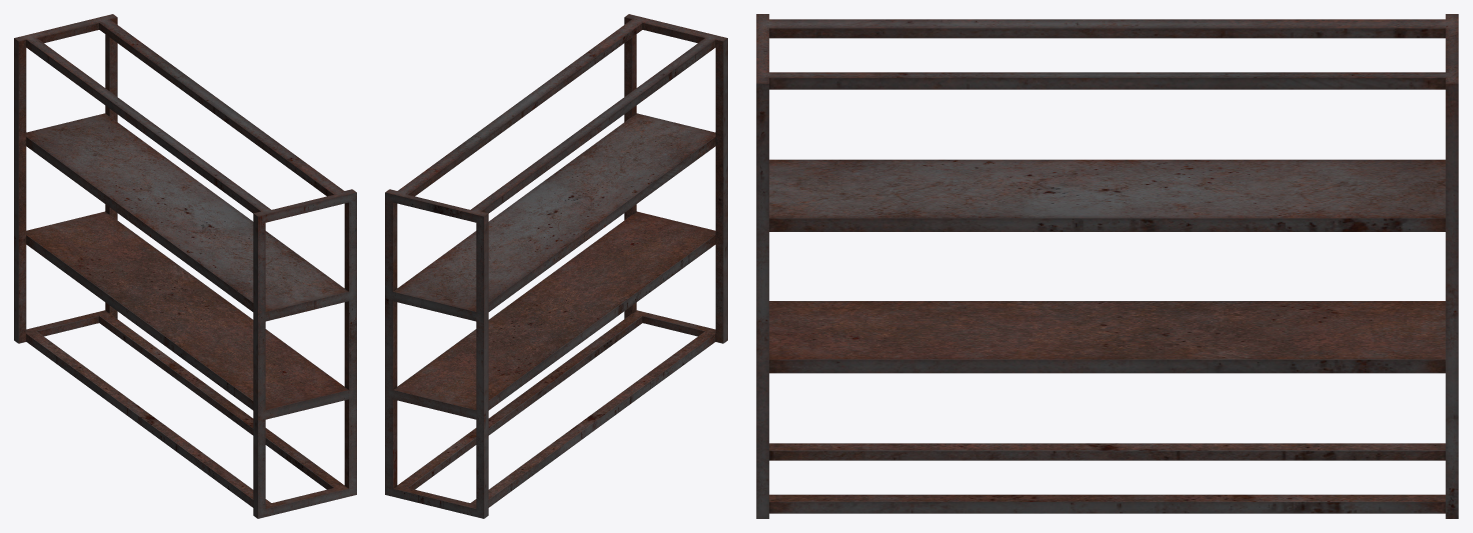
File: shelf.fbx
3 views of the same model, side by side, from view 1: azimuth 30°, elevation 25°; view 2: azimuth 150°, elevation 25°; view 3: azimuth 270°, elevation 25° (orthographic). The views are drawn at different scales.
Parts seen in each view (by area): view 1: pCube419_Shelf_GR_0; view 2: pCube419_Shelf_GR_0; view 3: pCube419_Shelf_GR_0.
Boxes of the visible parts, x1,y1,x2,y2 form: pCube419_Shelf_GR_0: (14,14,356,518); pCube419_Shelf_GR_0: (385,14,727,518); pCube419_Shelf_GR_0: (756,14,1458,518).
Size of the model in its own units: 932 by 2721 by 3978.
Materials: 1 (1 with a texture image).
